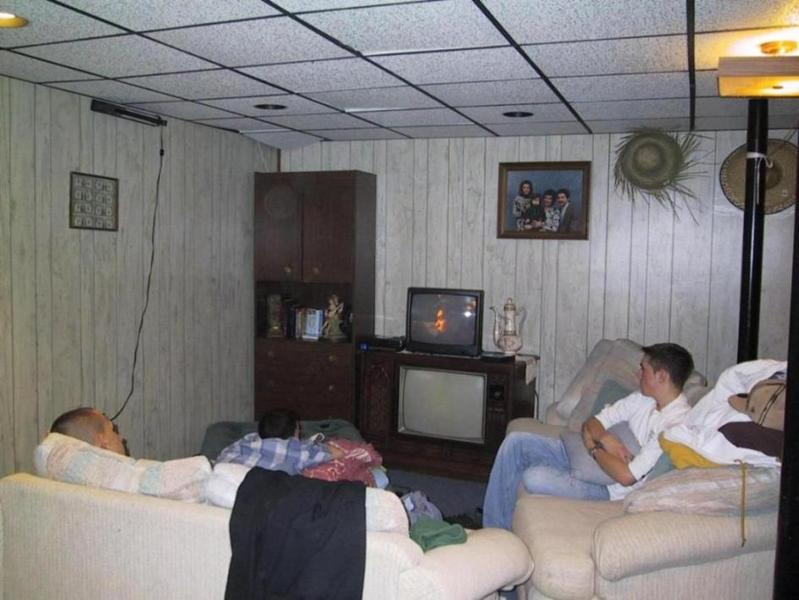person: (482, 342, 699, 535)
